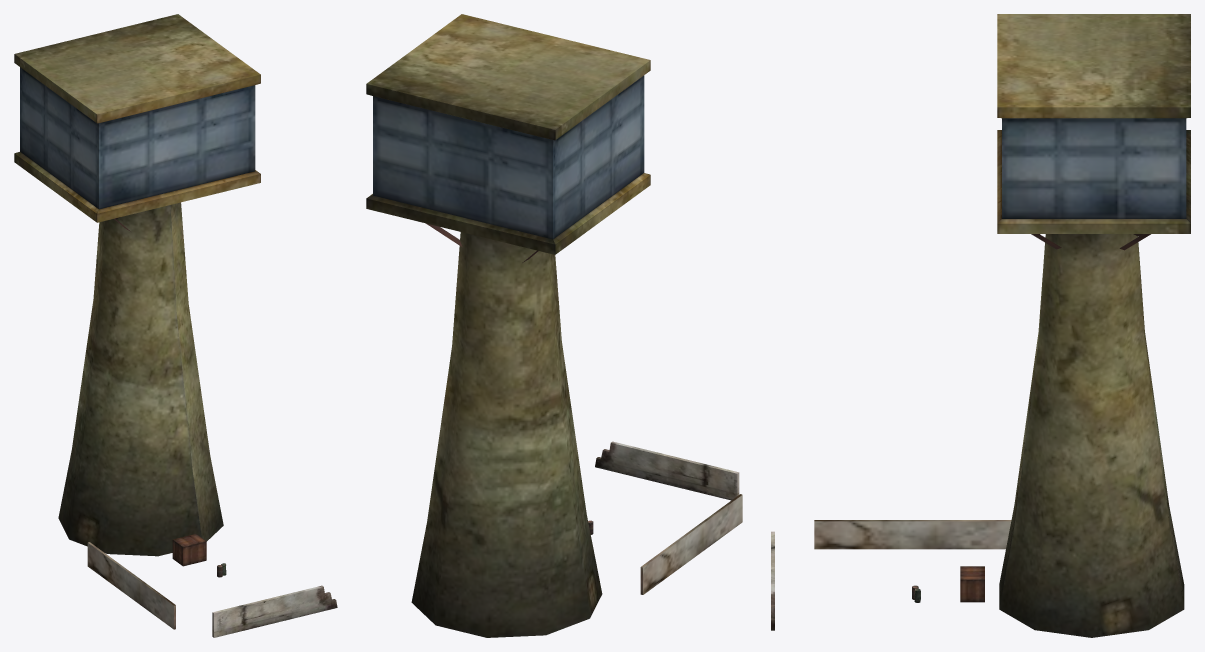
The model's file is ControlTowerz&Wall&Drum.FBX.
3 views of the same model, side by side, from view 1: azimuth 30°, elevation 25°; view 2: azimuth 150°, elevation 25°; view 3: azimuth 270°, elevation 25° (orthographic). The views are drawn at different scales.
Visible parts, largest first — view 1: ControlTower, Glass3, Glass2, Wall1, Wall2, Case; view 2: ControlTower, Glass1, Glass2, Wall1, Wall2; view 3: ControlTower, Glass4, Wall2, Case.
Part boxes in pixels (<box>): ControlTower: <box>14,14,260,556</box>; Glass3: <box>99,85,255,209</box>; Glass2: <box>20,67,98,208</box>; Wall1: <box>212,585,337,637</box>; Wall2: <box>87,542,175,629</box>; Case: <box>172,534,206,566</box>; ControlTower: <box>366,14,650,637</box>; Glass1: <box>373,96,552,239</box>; Glass2: <box>553,75,644,239</box>; Wall1: <box>595,441,739,500</box>; Wall2: <box>640,494,742,594</box>; ControlTower: <box>997,14,1190,637</box>; Glass4: <box>1002,118,1186,218</box>; Wall2: <box>814,520,1011,549</box>; Case: <box>960,566,984,602</box>.
Bounding box in the file's own units: 1885 × 3549 × 4990.
